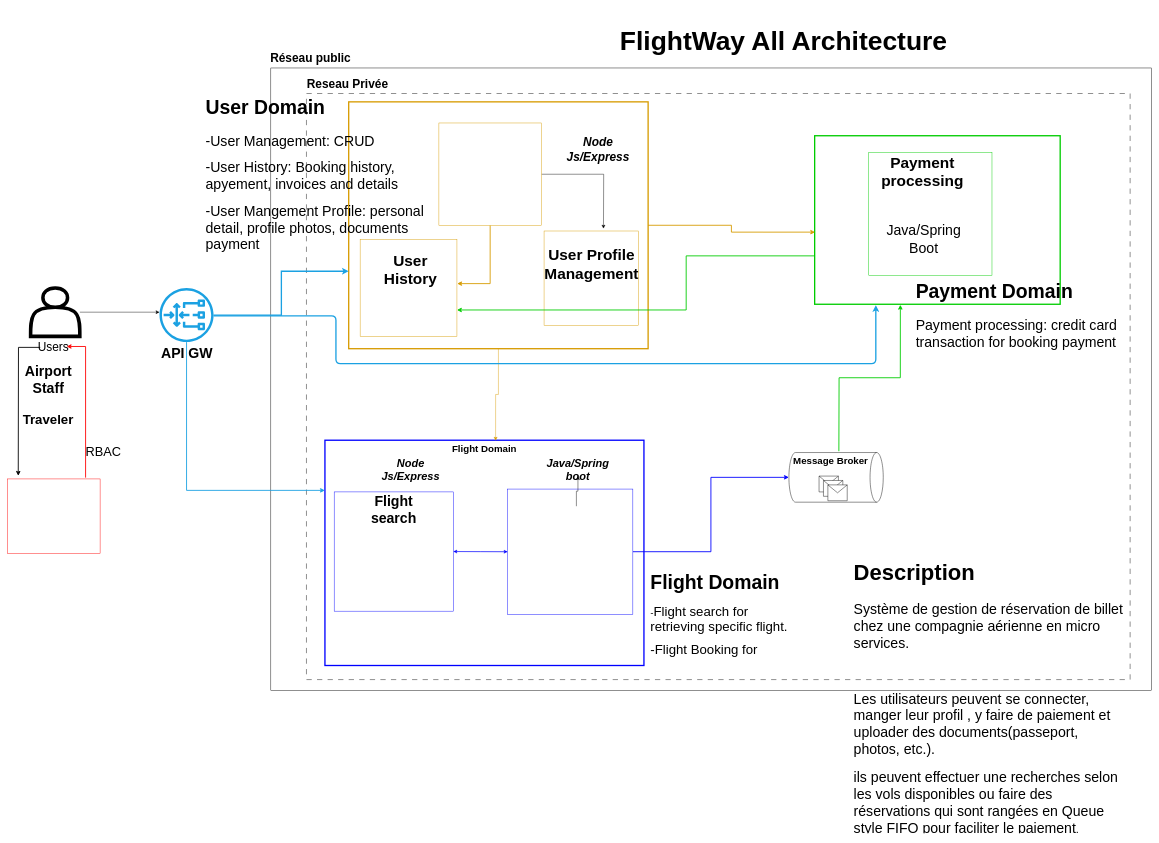
Some shapes in this 1159 by 843 pixel diagram are drawn without their labels. Here are the shapes that lost their labels. From the top down, the centre of each, then its label:
the point at 489,174: User Management
the point at 53,516: Auth Service
the point at 570,551: Flight Booking
